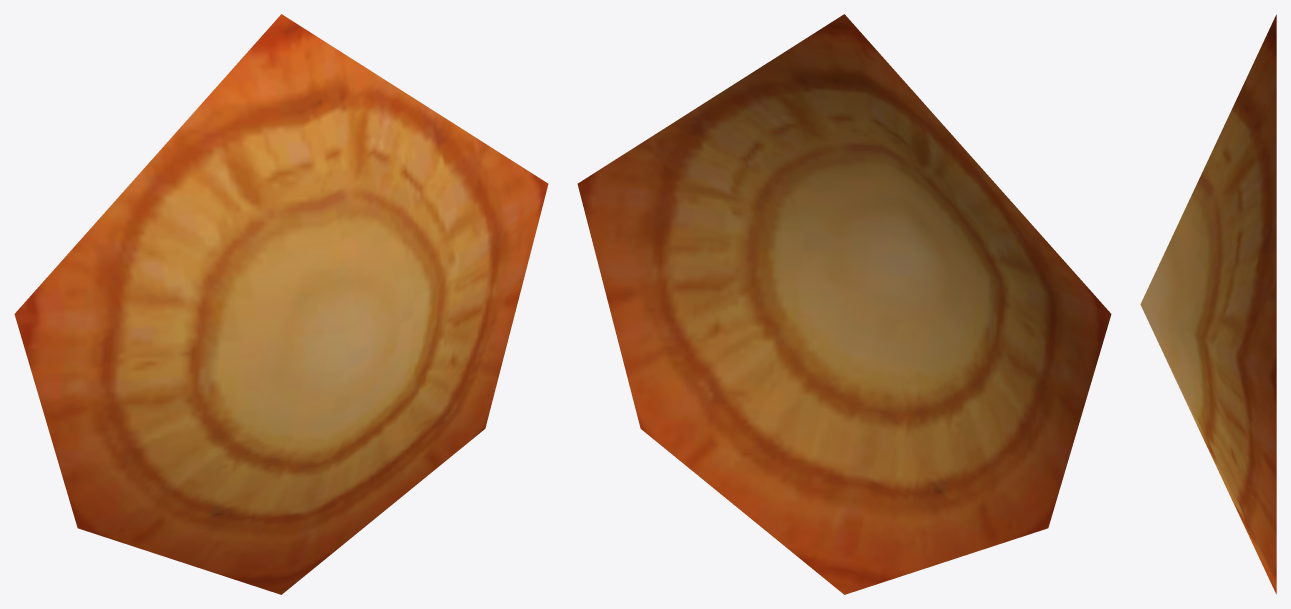
Rendered from hutt_fighter_light_engine_s01_on_l2.fbx.
The picture shows the model from 3 angles, left to right: view 1: azimuth 30°, elevation 25°; view 2: azimuth 150°, elevation 25°; view 3: azimuth 270°, elevation 25°; orthographic projection.
Visible parts, largest first — view 1: mesh_node; view 2: mesh_node; view 3: mesh_node.
Boxes of the visible parts, x1=… form: mesh_node: x1=14, y1=14, x2=548, y2=594; mesh_node: x1=577, y1=14, x2=1111, y2=594; mesh_node: x1=1140, y1=14, x2=1276, y2=594.
Size of the model in its own units: 1.2 by 1.25 by 0.2651.
1 material, 1 textured.
